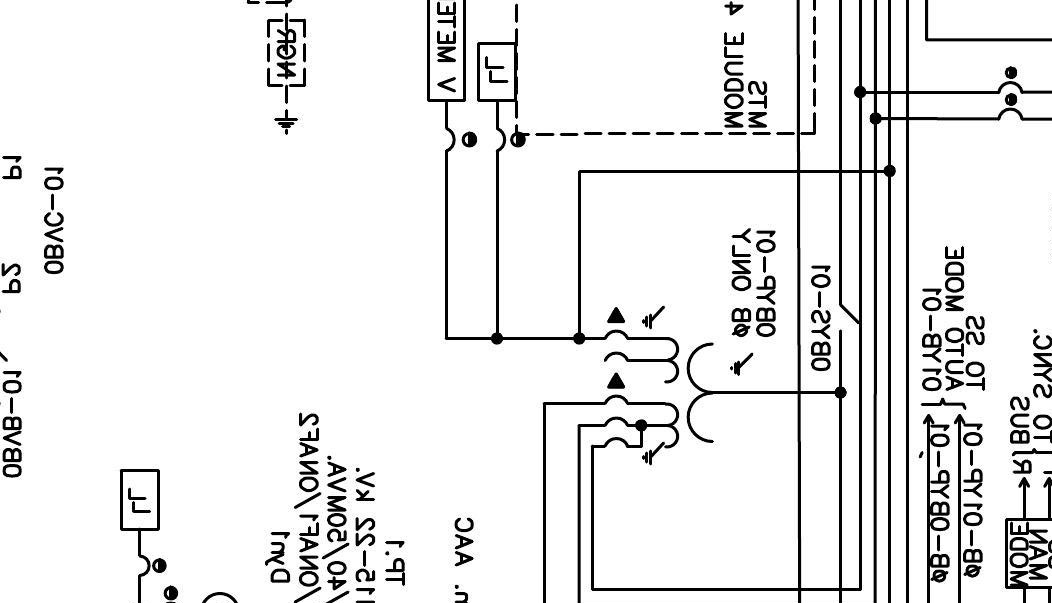115_ds: (838, 304, 859, 334)
115_vt_1p: (603, 305, 755, 467)
LL: (119, 468, 161, 532), (476, 41, 517, 103)
